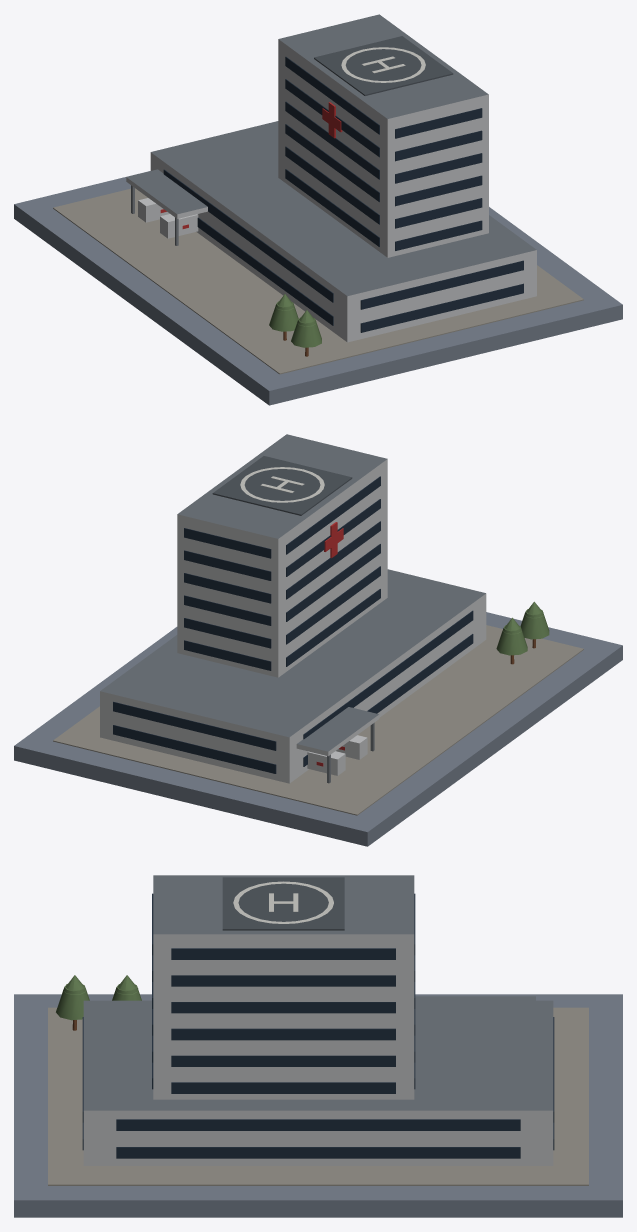
The model's file is hospital.glb.
3 renders of one model, top to bottom at view 1: azimuth 30°, elevation 25°; view 2: azimuth 150°, elevation 25°; view 3: azimuth 270°, elevation 25°, orthographic. The views are drawn at different scales.
Parts seen in each view (by area): view 1: hospital; view 2: hospital; view 3: hospital.
Boxes of the visible parts, bbox=[...] form: hospital: bbox=[14, 14, 622, 405]; hospital: bbox=[14, 434, 622, 846]; hospital: bbox=[14, 875, 622, 1217].
Bounding box in the file's own units: 56 × 30.65 × 70.
